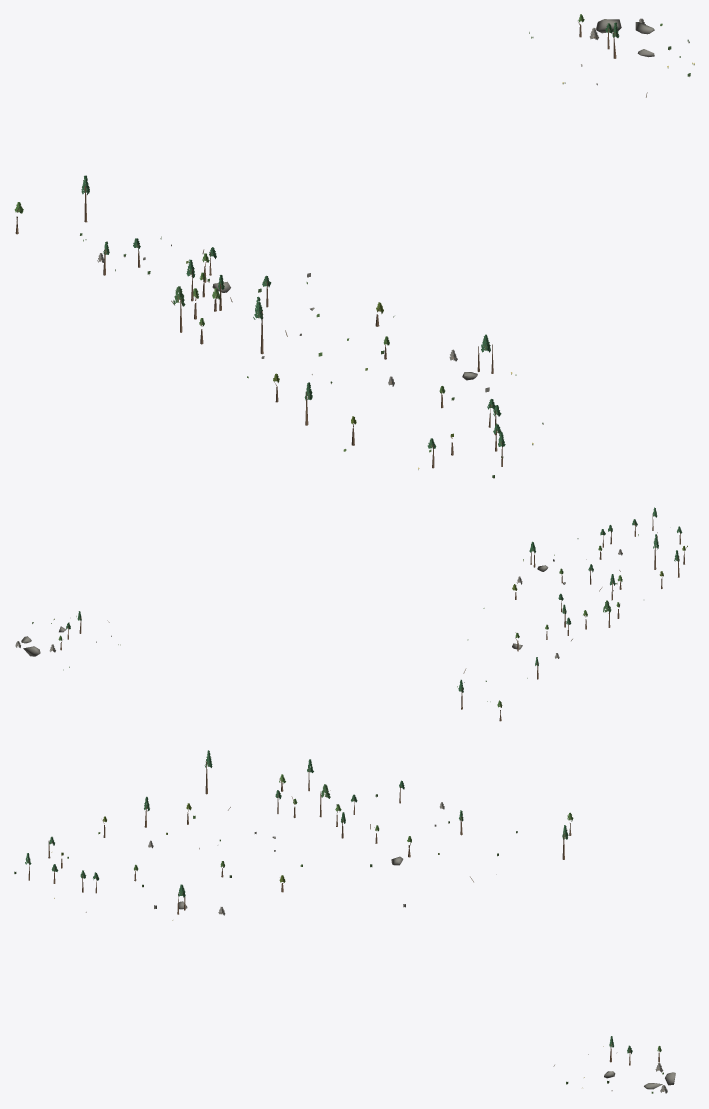
Rendered from arch_land_scatter_c20_22_lod1.glb.
The picture shows the model from 3 angles, top to bottom: view 1: azimuth 30°, elevation 25°; view 2: azimuth 150°, elevation 25°; view 3: azimuth 270°, elevation 25°; orthographic projection. The views are drawn at different scales.
Visible parts, largest first — view 1: arch_land_scatter_c20_22_lod1; view 2: arch_land_scatter_c20_22_lod1; view 3: arch_land_scatter_c20_22_lod1.
Part boxes in pixels (box(x1,y1,x2,y2)): arch_land_scatter_c20_22_lod1: box(14, 14, 694, 478); arch_land_scatter_c20_22_lod1: box(15, 507, 687, 721); arch_land_scatter_c20_22_lod1: box(14, 750, 675, 1093).
Size of the model in its own units: 200 by 33.39 by 223.
